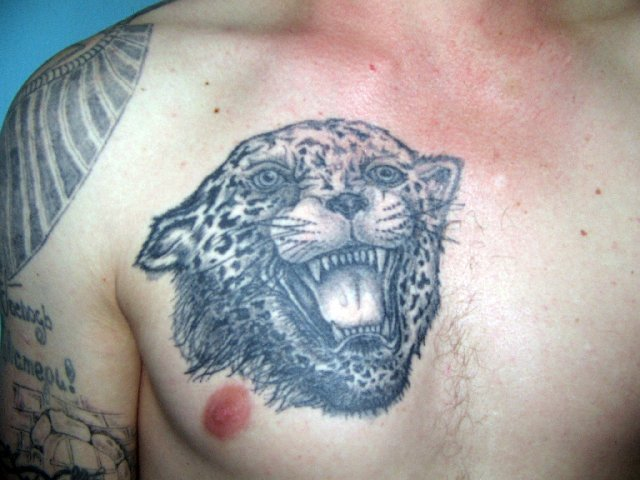tatu3_bukva: (1, 282, 82, 392)
tatu5_tigr: (129, 112, 467, 417)
